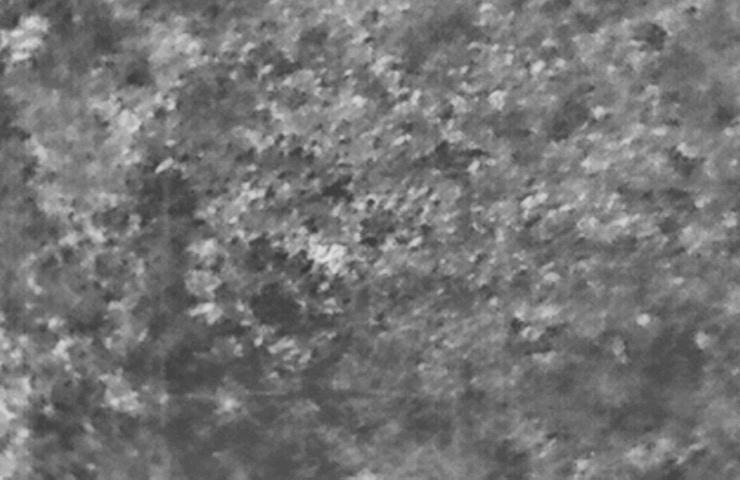landmines: (311, 234, 350, 272)
